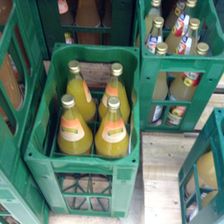juice: (169, 43, 208, 125), (94, 97, 132, 159), (58, 95, 93, 156), (97, 63, 130, 121), (66, 60, 96, 119)
